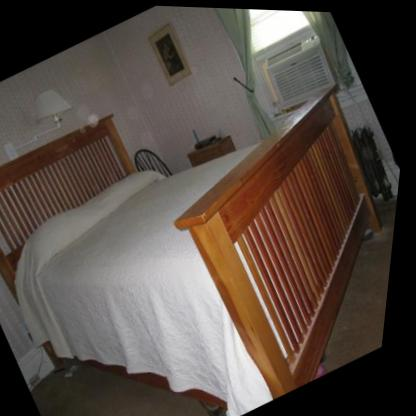Bed: (0, 87, 386, 400)
Curtains: (214, 6, 277, 136), (301, 9, 356, 85)
